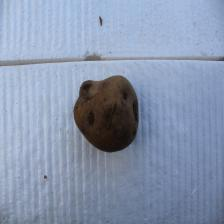Diseased-fungal potato: (71, 74, 140, 153)
